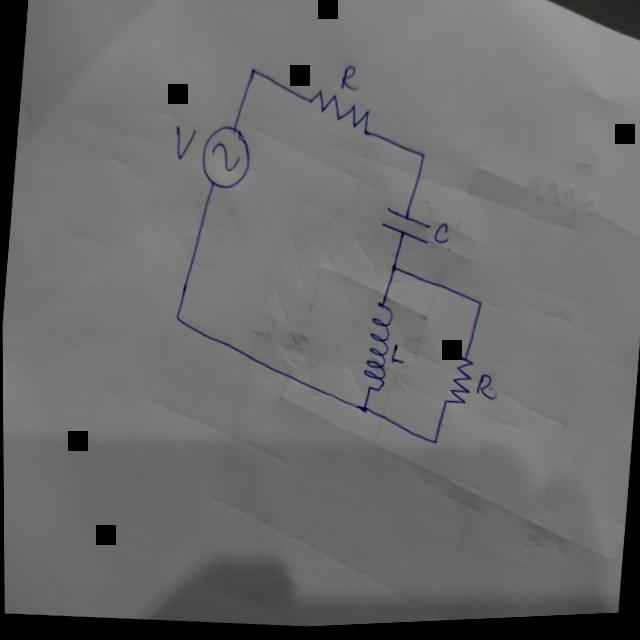capacitor: (377, 206, 431, 248)
inductor: (358, 300, 393, 395)
junction: (353, 404, 368, 416), (245, 65, 257, 79), (387, 262, 397, 278), (472, 300, 481, 315), (415, 152, 425, 164), (172, 311, 180, 323), (428, 438, 437, 448)
resistor: (305, 87, 371, 139), (439, 355, 473, 408)
source: (196, 122, 252, 192)
text: (170, 123, 195, 162), (335, 64, 360, 95), (472, 373, 496, 405), (430, 222, 449, 250), (388, 343, 405, 367)
